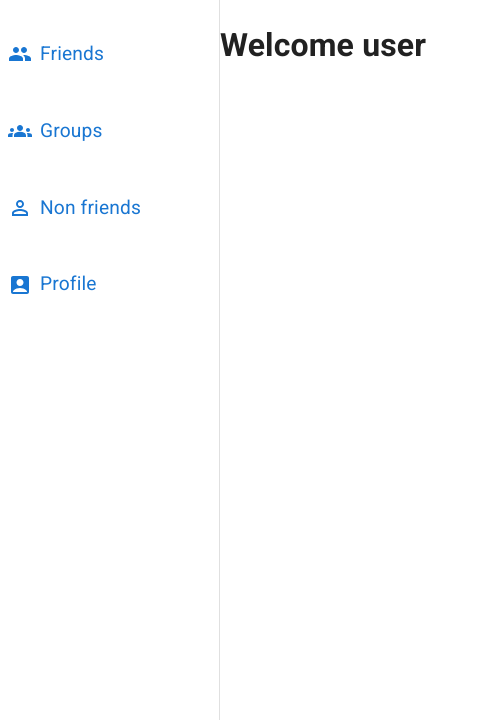
Test: navigation-sidebar component › non-friends icon link › should navigate to '/non-friends' path when non-friends link is clicked
The width and height of the screenshot is (485, 720).
Click the link "Non friends": click(74, 208) [8,196,141,220]
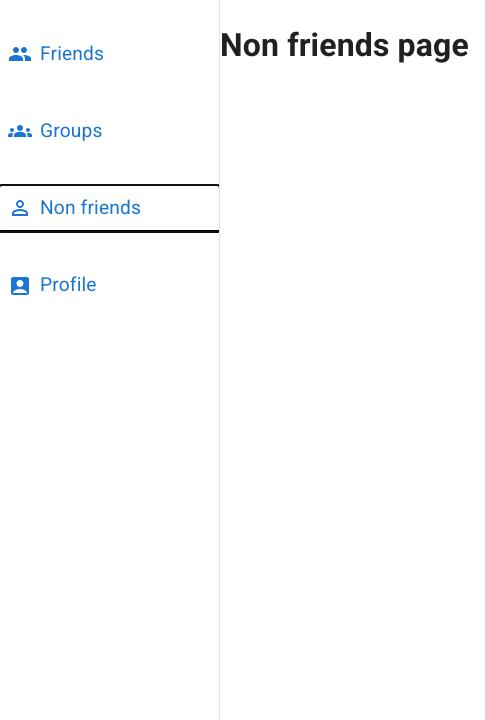
Check: the heading "Non friends page" is shown, box [220,21,469,69]
